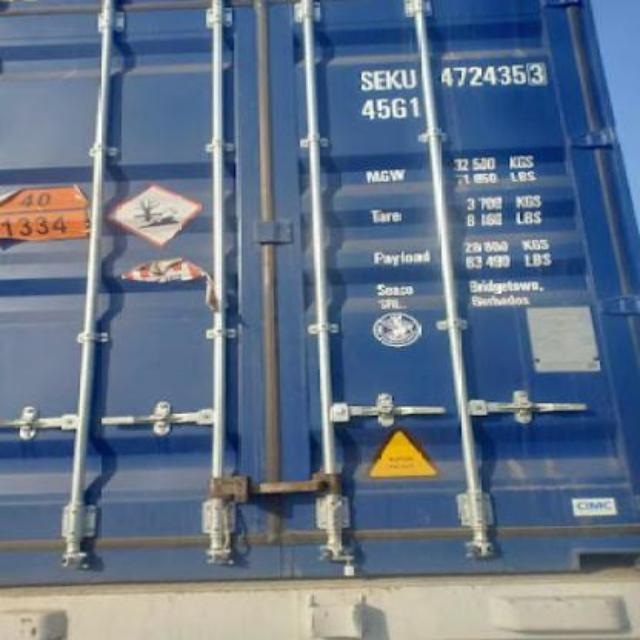2: (468, 61, 484, 87)
3: (526, 60, 546, 84), (498, 60, 512, 90)
4: (438, 60, 454, 90), (482, 63, 498, 87)
5: (512, 60, 528, 88)
7: (454, 61, 468, 91)
E: (372, 64, 388, 88)
K: (386, 64, 402, 92)
S: (356, 63, 374, 93)
U: (402, 60, 418, 94)
